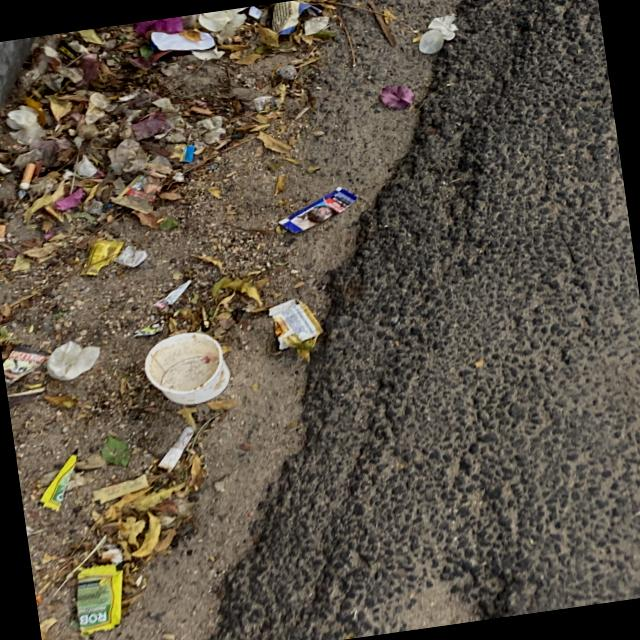giay: (269, 300, 321, 350), (3, 345, 48, 387)
giay_goi: (279, 187, 358, 233), (76, 566, 122, 636), (39, 455, 76, 512), (80, 240, 123, 275)
ly_hop_giay: (144, 333, 229, 405)
